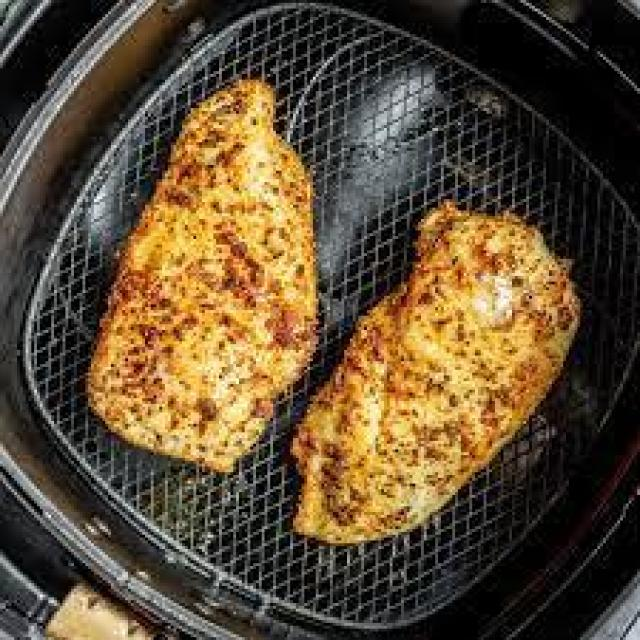Frango: (80, 72, 332, 478)
